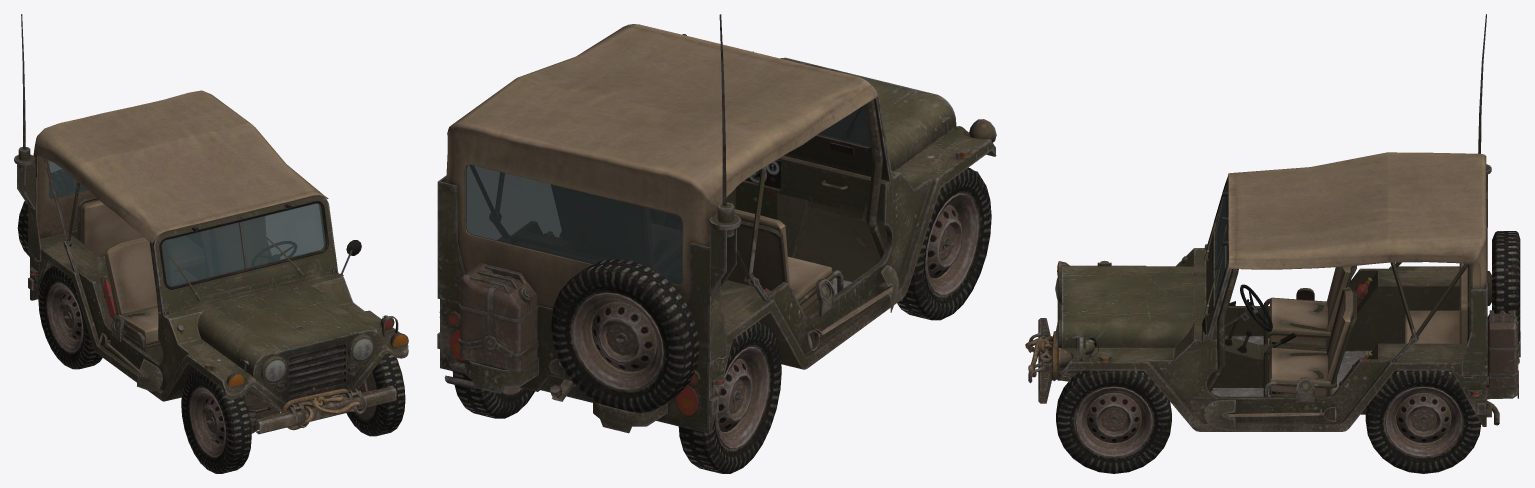
3 views of the same model, side by side, from view 1: azimuth 30°, elevation 25°; view 2: azimuth 150°, elevation 25°; view 3: azimuth 270°, elevation 25° (orthographic). The views are drawn at different scales.
Visible parts, largest first — view 1: Object_3, Object_2; view 2: Object_3, Object_2; view 3: Object_3, Object_2.
Part boxes in pixels (x1,y1,x2,y2): Object_3: [14, 14, 408, 473]; Object_2: [49, 160, 325, 286]; Object_3: [437, 14, 996, 473]; Object_2: [465, 105, 870, 284]; Object_3: [1025, 14, 1520, 473]; Object_2: [1215, 189, 1226, 303].
Bounding box in the file's own units: 4.51 × 6.57 × 8.13.
Materials: 2 (2 with a texture image).
